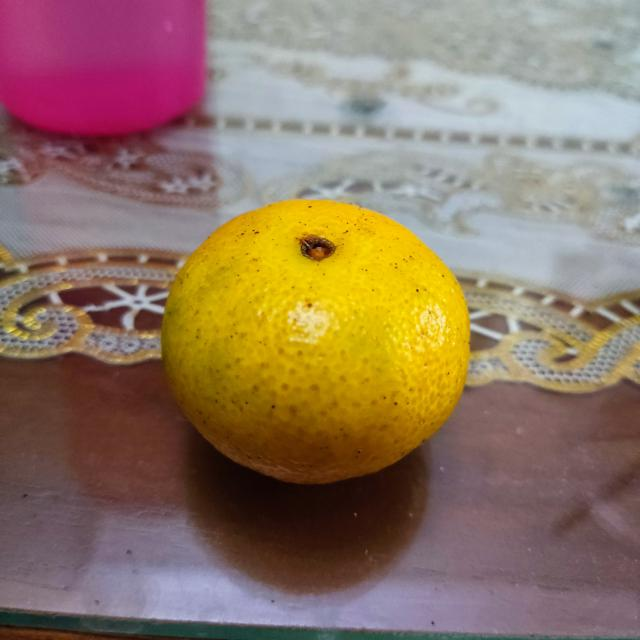orange: (164, 197, 472, 485)
